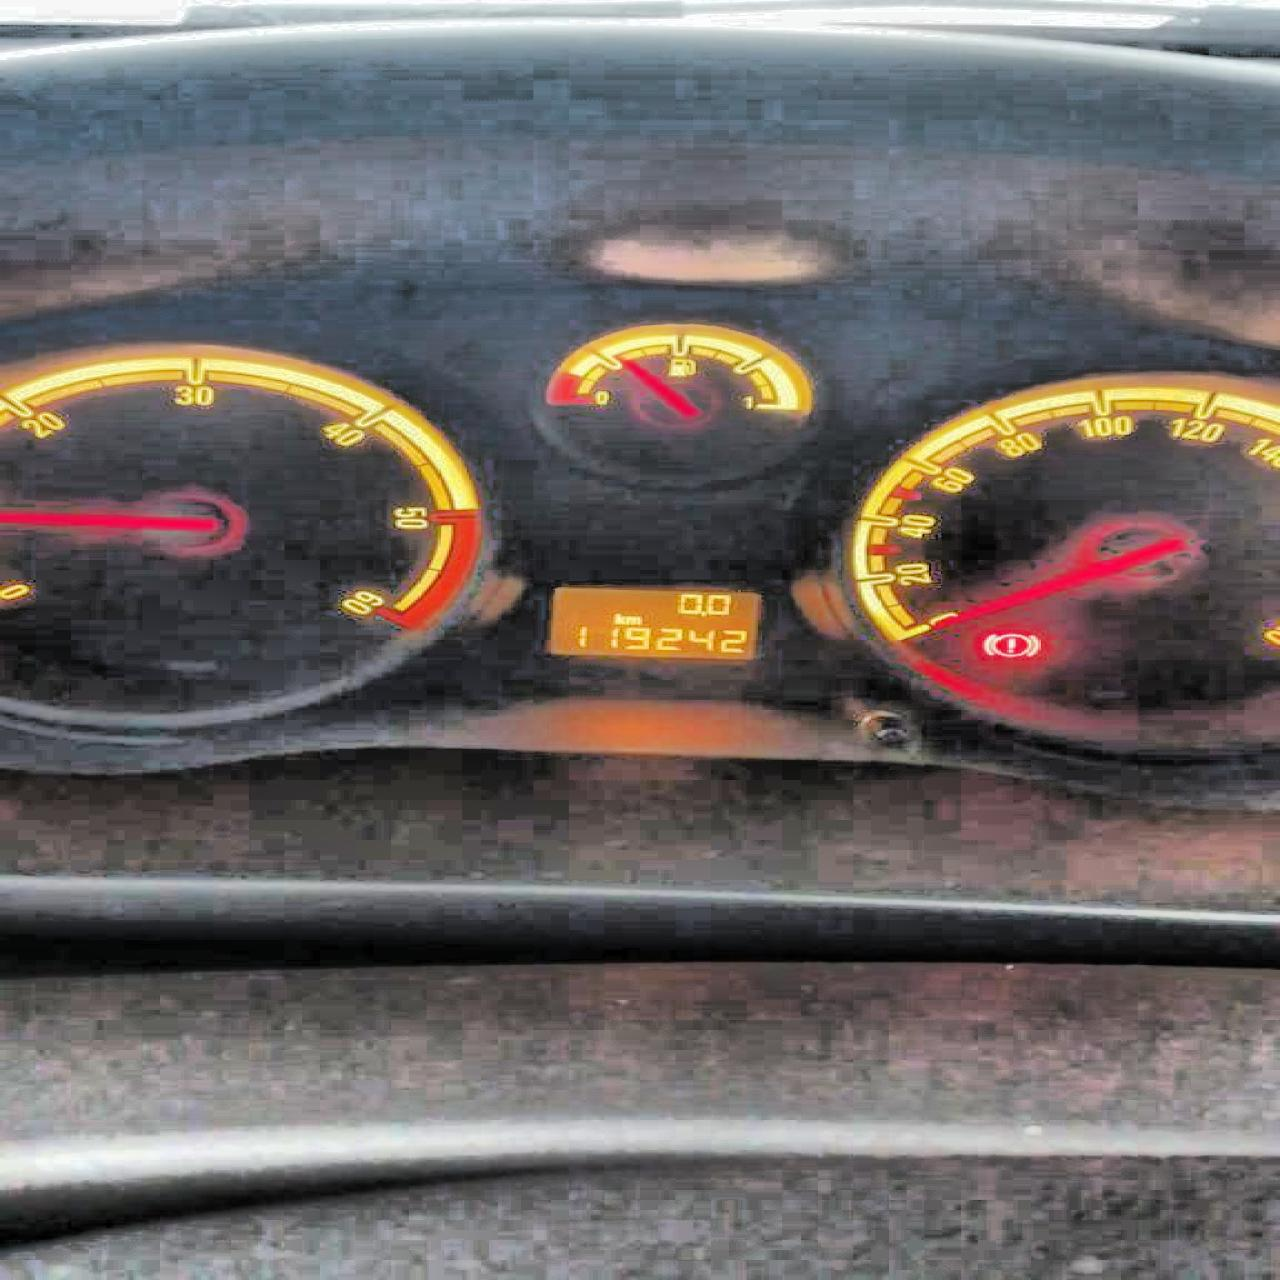-: (697, 610, 704, 617)
0: (673, 592, 700, 613), (704, 594, 731, 614)
1: (573, 624, 588, 647), (606, 625, 618, 651)
2: (717, 627, 747, 652), (654, 626, 682, 651)
4: (687, 626, 713, 651)
9: (622, 625, 648, 649)
X: (611, 610, 625, 624), (625, 615, 642, 622)
odometer: (540, 584, 762, 662)
